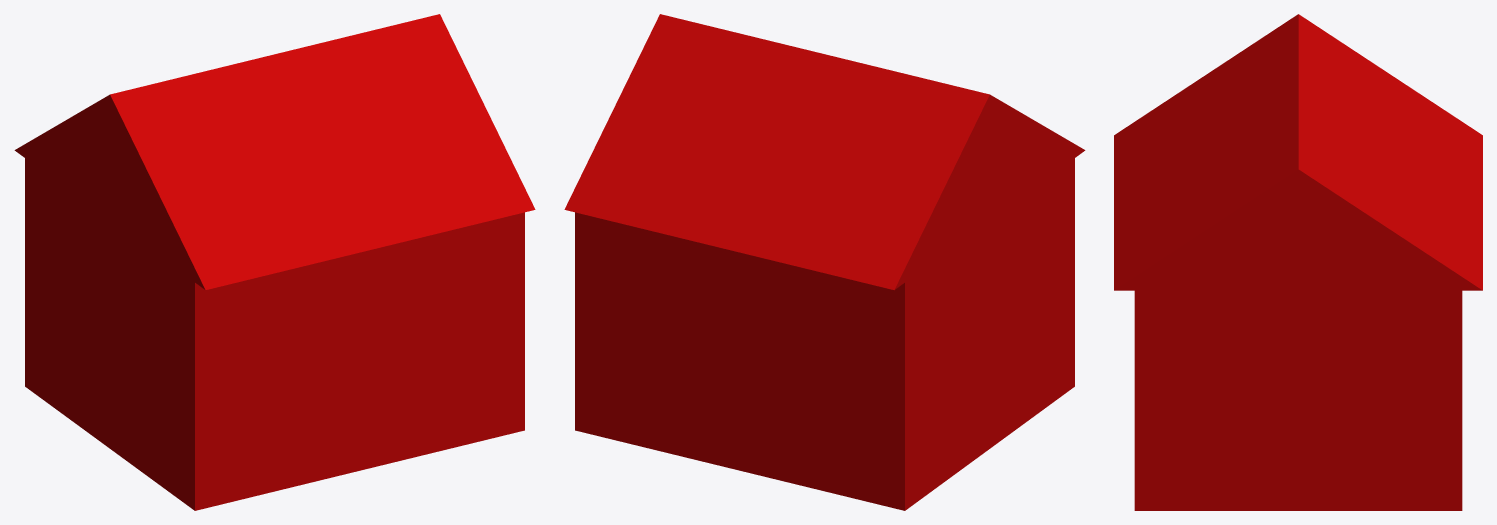
File: Game_Piece_House_Red_01.fbx
3 views of the same model, side by side, from view 1: azimuth 30°, elevation 25°; view 2: azimuth 150°, elevation 25°; view 3: azimuth 270°, elevation 25° (orthographic). The views are drawn at different scales.
Visible parts, largest first — view 1: Game_Piece_House_Red_01; view 2: Game_Piece_House_Red_01; view 3: Game_Piece_House_Red_01.
Boxes of the visible parts, x1,y1,x2,y2 form: Game_Piece_House_Red_01: (14, 14, 535, 510); Game_Piece_House_Red_01: (564, 14, 1085, 510); Game_Piece_House_Red_01: (1114, 14, 1482, 510).
Bounding box in the file's own units: 11.39 × 11.68 × 11.43.
